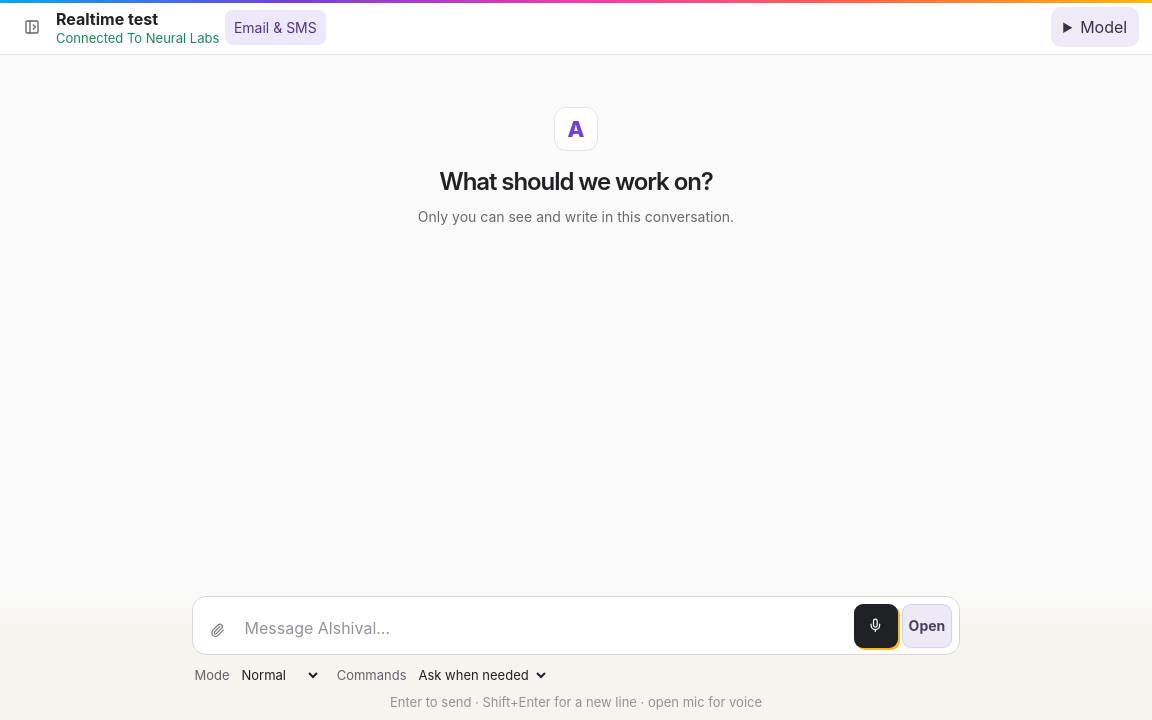
Test: Alshival realtime conversation › opens the live skill picker when a user types $ and inserts the selected command
This screenshot has width=1152, height=720.
Type "$local" into the text box with placeholder "Message Alshival…" at (544, 628), box [238,609,850,648]
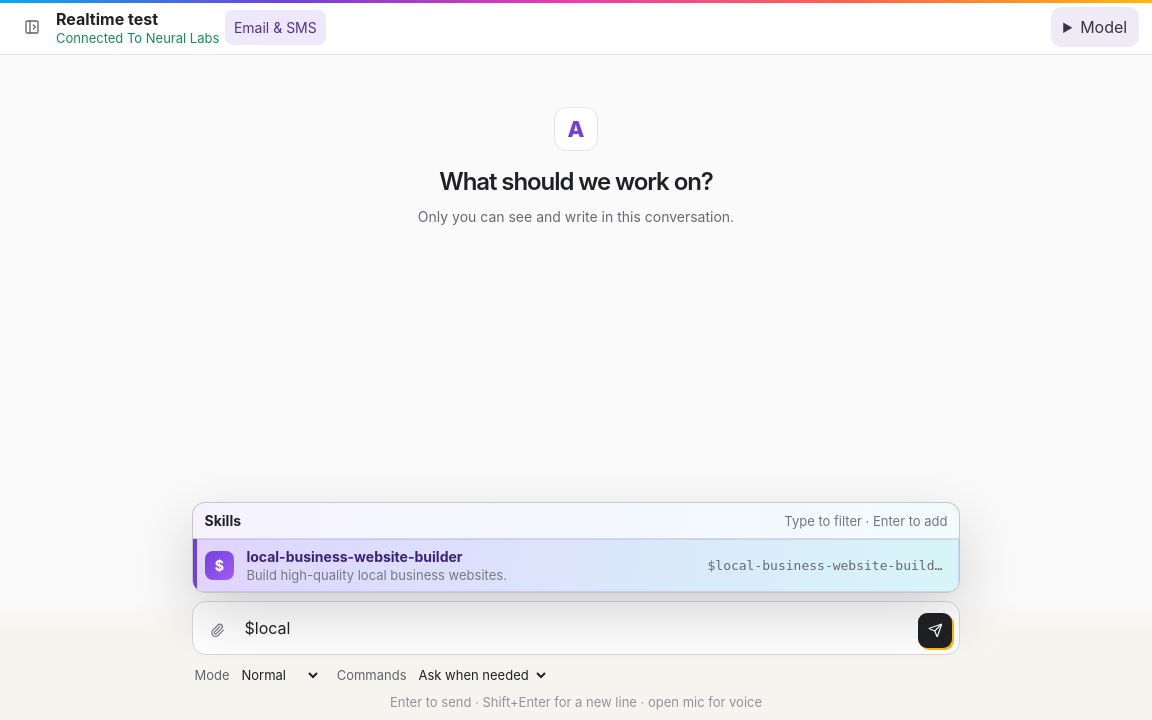
Check: the option "local-business-website-builder" is shown, box [193,539,959,592]
Press Enter in the text box with placeholder "Message Alshival…", box [238,609,914,648]
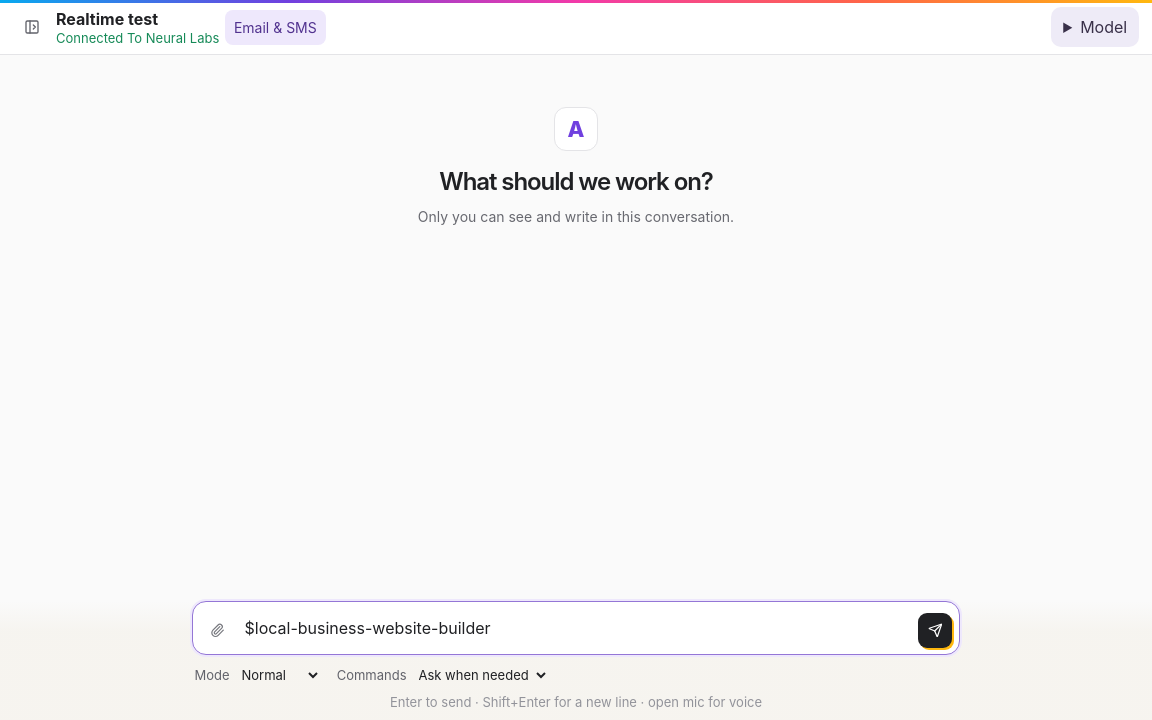
Check: the text box with placeholder "Message Alshival…" holds "$local-business-website-builder ", box [238,609,914,648]
